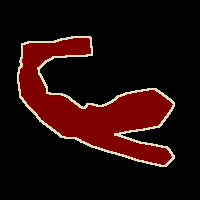tie: (18, 36, 174, 166)
